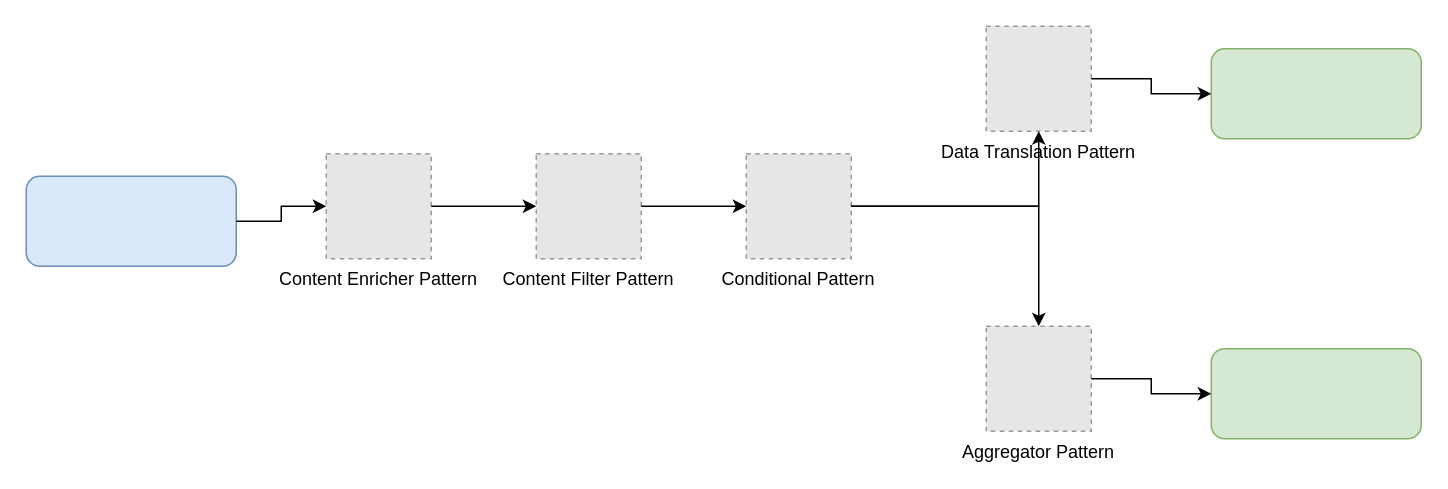
Image size: 1448x489. Some labels were removed from this diagram. Grey dashed boxes stand in for pictures. The centre of each missing label's shape, as x and y in pixels:
"Consumer A" goes at point 1315,93.
"Consumer B" goes at point 1315,393.
"Producer" goes at point 130,220.
